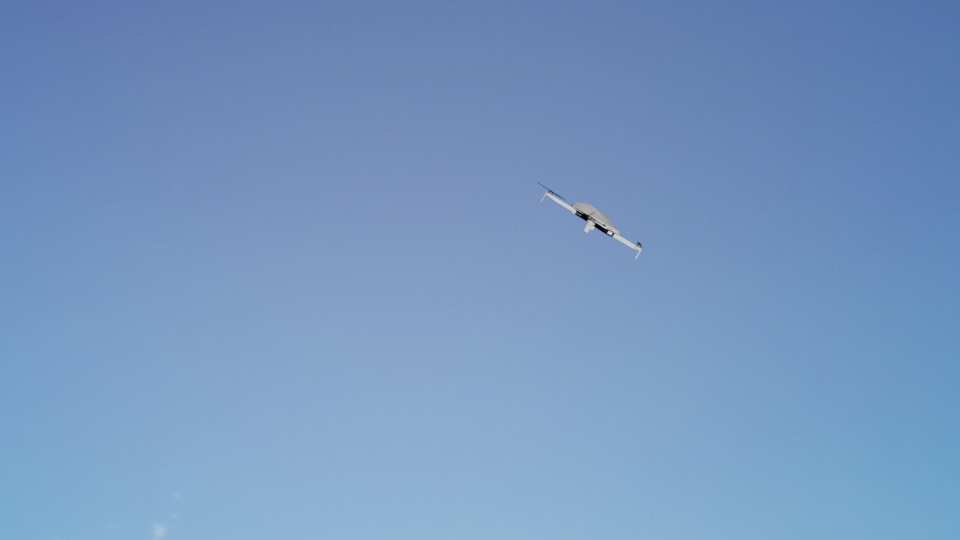drone: (541, 182, 644, 260)
